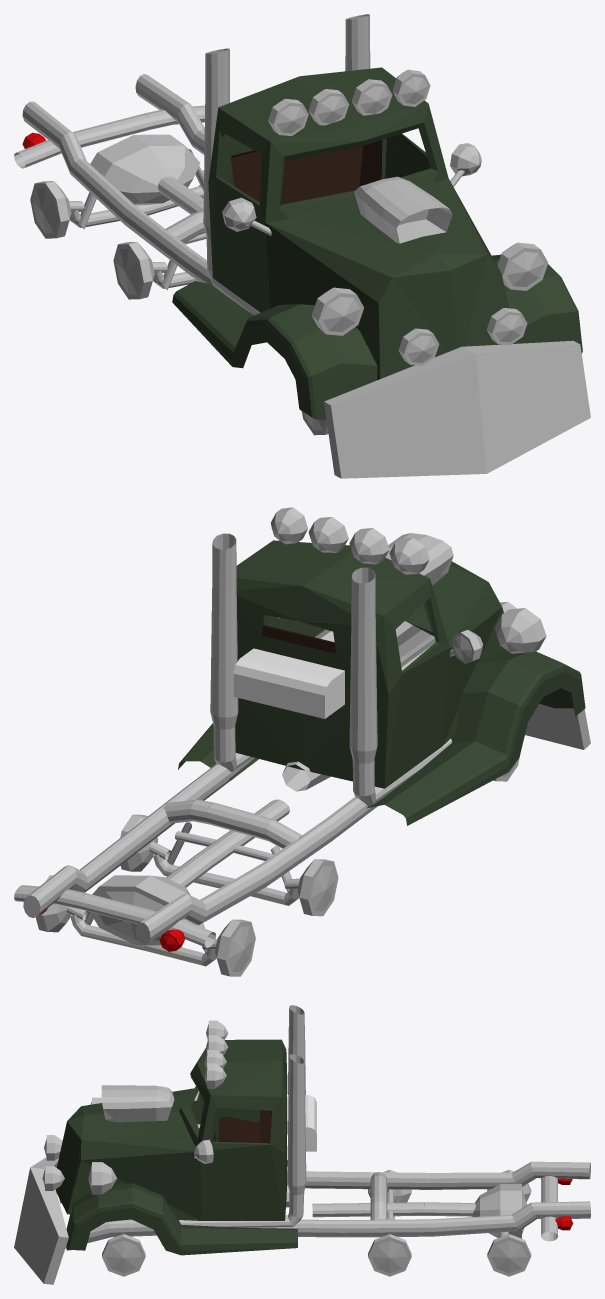
The model's file is truck 1.glb.
3 views of the same model, one above another, from view 1: azimuth 30°, elevation 25°; view 2: azimuth 150°, elevation 25°; view 3: azimuth 270°, elevation 25° (orthographic). The views are drawn at different scales.
Visible parts, largest first — view 1: Cube.061, Cube.059, chassis 1.004, Plane.053, Cube.058, engine.004, Plane.054, front axle.012, Plane.051, front axle.013, Cylinder.066, Cylinder.065 (+9 smaller); view 2: Cube.061, chassis 1.004, Plane.053, Plane.051, Plane.052, Cube.060, front axle.013, front axle.012, engine.004, Cube.059, Cylinder.066, Cylinder.099 (+6 smaller); view 3: Cube.061, chassis 1.004, Plane.054, Cube.059, Plane.052, engine.004, front axle.013, front axle.012, front axle.011, Cube.058, Plane.051, Cylinder.065 (+5 smaller).
Boxes of the visible parts, x1,y1,x2,y2 form: Cube.061: (208, 67, 517, 380); Cube.059: (324, 340, 590, 478); chassis 1.004: (14, 74, 211, 284); Plane.053: (172, 281, 377, 419); Cube.058: (231, 140, 382, 204); engine.004: (354, 176, 452, 243); Plane.054: (492, 254, 582, 353); front axle.012: (30, 149, 204, 238); Plane.051: (203, 48, 259, 315); front axle.013: (113, 233, 206, 299); Cylinder.066: (311, 287, 364, 335); Cylinder.065: (497, 242, 548, 290); Cube.061: (235, 540, 508, 788); chassis 1.004: (14, 757, 377, 947); Plane.053: (366, 651, 585, 825); Plane.051: (349, 567, 451, 806); Plane.052: (210, 533, 253, 771); Cube.060: (233, 648, 344, 718); front axle.013: (120, 814, 338, 916); front axle.012: (35, 875, 255, 976); engine.004: (282, 533, 453, 791); Cube.059: (525, 704, 590, 749); Cylinder.066: (494, 608, 546, 653); Cylinder.099: (389, 537, 429, 574); Cube.061: (55, 1039, 287, 1220); chassis 1.004: (59, 1161, 590, 1248); Plane.054: (66, 1183, 297, 1255); Cube.059: (14, 1157, 68, 1284); Plane.052: (179, 1054, 306, 1227); engine.004: (101, 1085, 289, 1207); front axle.013: (368, 1169, 411, 1276); front axle.012: (487, 1169, 531, 1276); front axle.011: (102, 1234, 145, 1276); Cube.058: (218, 1110, 271, 1143); Plane.051: (287, 1005, 305, 1175); Cylinder.065: (88, 1162, 117, 1194).
Bounding box in the file's own units: 4.17 × 4.42 × 10.63.
